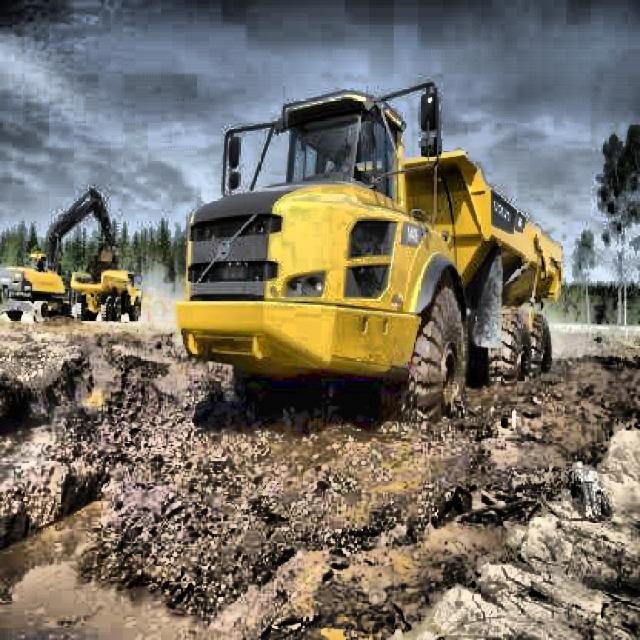dump_truck: (169, 92, 583, 432), (69, 260, 147, 331)
